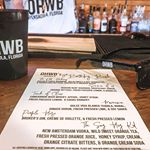cups: (1, 8, 31, 80)
